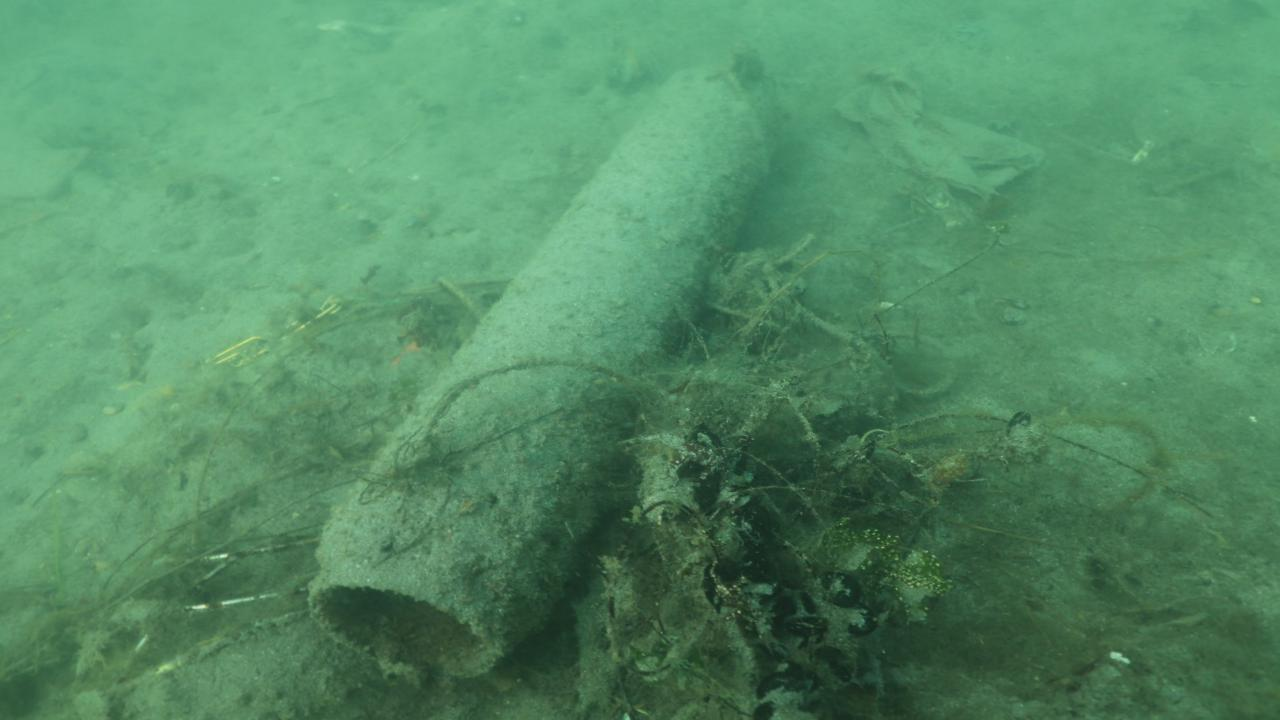eel fish trap: (305, 59, 774, 680)
